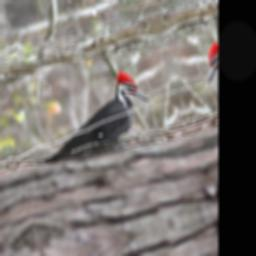Woodpecker: (17, 63, 162, 177)
